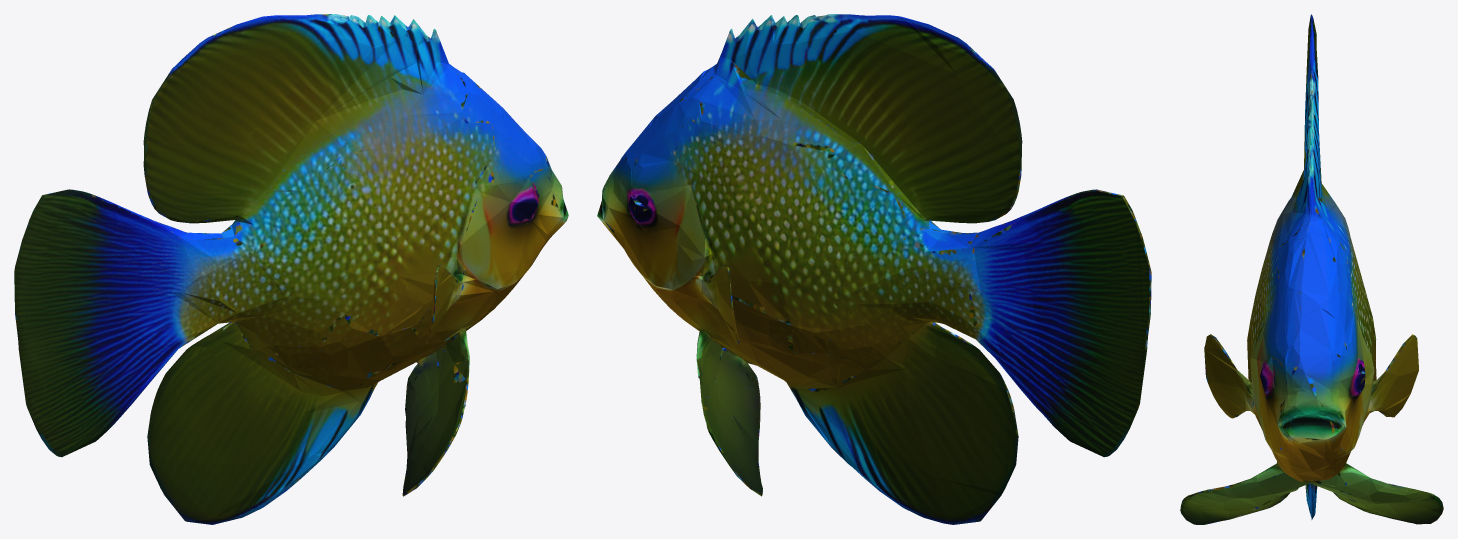
The model's file is fish_0072_smpl23_resized.glb.
The picture shows the model from 3 angles, left to right: view 1: azimuth 30°, elevation 25°; view 2: azimuth 150°, elevation 25°; view 3: azimuth 270°, elevation 25°; orthographic projection.
Visible parts, largest first — view 1: world; view 2: world; view 3: world.
Boxes of the visible parts, x1=… form: world: x1=14, y1=14, x2=568, y2=524; world: x1=597, y1=14, x2=1151, y2=524; world: x1=1180, y1=14, x2=1443, y2=524.
Size of the model in its own units: 1.98 by 1.72 by 0.8358.
1 material, 1 textured.
